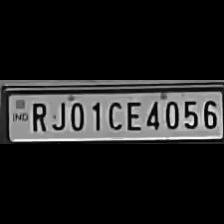0: (66, 99, 88, 131), (162, 97, 180, 129)
1: (87, 99, 103, 131)
4: (143, 97, 161, 130)
5: (181, 97, 199, 129)
6: (200, 96, 220, 130)
C: (104, 98, 122, 132)
E: (123, 98, 141, 132)
J: (50, 98, 66, 132)
R: (27, 100, 47, 132)
